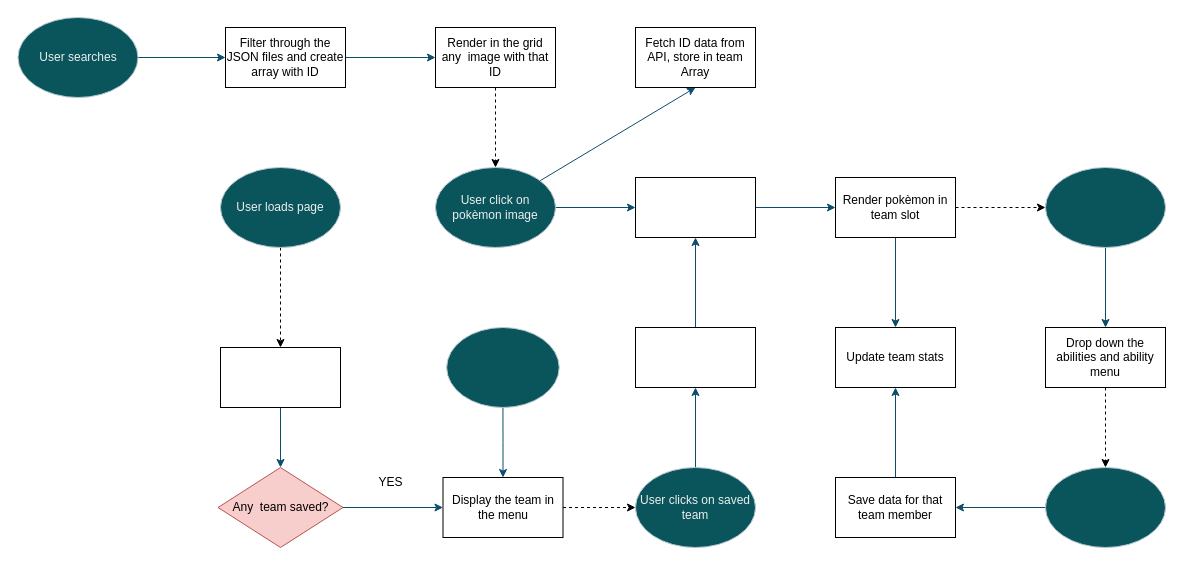
Image size: 1183x565. Some labels were removed from this diagram. Each missing label, with the centre of its shape:
Clear current team: (695,357)
Controls the local storage: (280,377)
Hash change: (695,207)
User click toggle menu: (1105,207)
User picks option in the menus: (1105,507)
User saves team: (502,367)
